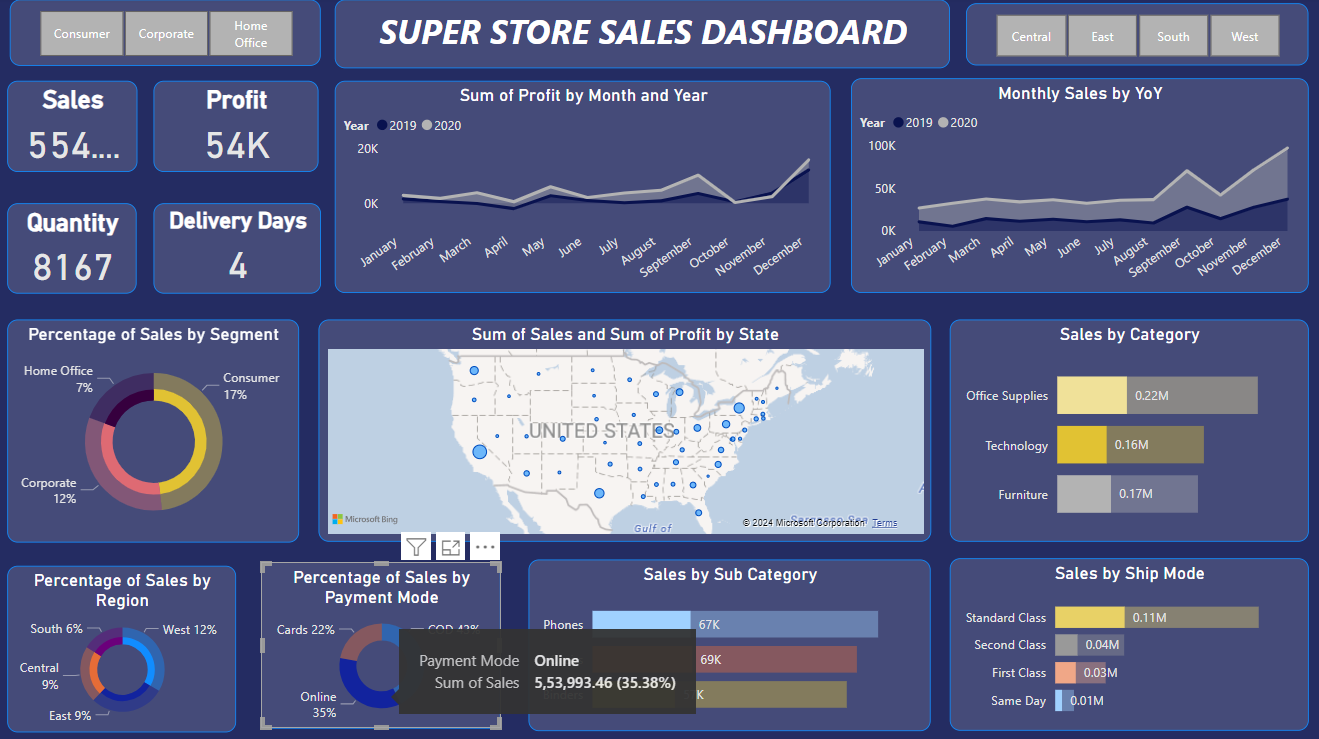

This screenshot's page, from the dashboard's own definition file:
{"tool":"powerbi","page":{"name":"Page 1","canvas":[1280,720],"ordinal":0},"visuals":[{"type":"clusteredBarChart","title":"Sales by Category","fields":{"Category":["SuperStore_Sales_Dataset.Category"],"Y":["Sum(SuperStore_Sales_Dataset.Sales)"]},"box":[920.2,311.2,346.1,214.7],"z":0},{"type":"clusteredBarChart","title":"Sales by Sub Category","fields":{"Category":["SuperStore_Sales_Dataset.Sub-Category"],"Y":["Sum(SuperStore_Sales_Dataset.Sales)"]},"box":[513.8,542.7,388.3,165.2],"z":1000},{"type":"clusteredBarChart","title":"Sales by Ship Mode","fields":{"Category":["SuperStore_Sales_Dataset.Ship Mode"],"Y":["Sum(SuperStore_Sales_Dataset.Sales)"]},"box":[920,541.2,346.2,166.2],"z":2000},{"type":"stackedAreaChart","title":"Monthly Sales by YoY","fields":{"Y":["Sum(SuperStore_Sales_Dataset.Sales)"],"Category":["SuperStore_Sales_Dataset.Order Date.Variation.Date Hierarchy.Month","SuperStore_Sales_Dataset.Order Date.Variation.Date Hierarchy.Day"],"Series":["SuperStore_Sales_Dataset.Order Date.Variation.Date Hierarchy.Year"]},"box":[825,78.8,441.2,207.5],"z":3000},{"type":"stackedAreaChart","fields":{"Category":["SuperStore_Sales_Dataset.Order Date.Variation.Date Hierarchy.Month","SuperStore_Sales_Dataset.Order Date.Variation.Date Hierarchy.Day"],"Series":["SuperStore_Sales_Dataset.Order Date.Variation.Date Hierarchy.Year"],"Y":["Sum(SuperStore_Sales_Dataset.Profit)"]},"box":[326.2,81.2,478.8,205],"z":4000},{"type":"map","fields":{"Category":["SuperStore_Sales_Dataset.State"],"Size":["Sum(SuperStore_Sales_Dataset.Sales)"]},"box":[311.2,311.2,591,214.7],"z":5000},{"type":"donutChart","title":"Percentage of Sales by Segment","fields":{"Category":["SuperStore_Sales_Dataset.Segment"],"Y":["Sum(SuperStore_Sales_Dataset.Sales)"]},"box":[11.2,311.2,281.2,215],"z":6000},{"type":"donutChart","title":"Percentage of Sales by Payment Mode","fields":{"Category":["SuperStore_Sales_Dataset.Payment Mode"],"Y":["Sum(SuperStore_Sales_Dataset.Sales)"]},"box":[255.7,545.1,231.6,160.4],"z":7000},{"type":"slicer","fields":{"Values":["SuperStore_Sales_Dataset.Region"]},"box":[936.2,6.2,330,60],"z":8000},{"type":"textbox","box":[326.2,2.5,593.8,66.2],"z":9000},{"type":"card","title":"Sales","fields":{"Values":["Sum(SuperStore_Sales_Dataset.Sales)"]},"box":[11.2,81.2,125,87.5],"z":10000},{"type":"card","title":"Quantity","fields":{"Values":["Sum(SuperStore_Sales_Dataset.Quantity)"]},"box":[11.2,198.8,125,87.5],"z":11000},{"type":"card","title":"Profit","fields":{"Values":["Sum(SuperStore_Sales_Dataset.Profit)"]},"box":[161.2,81.2,152.5,87.5],"z":12000},{"type":"card","title":"Delivery Days","fields":{"Values":["Avg(SuperStore_Sales_Dataset.AvgDelievery)"]},"box":[162.5,198.8,151.2,87.5],"z":13000},{"type":"donutChart","title":"Percentage of Sales by Region","fields":{"Category":["SuperStore_Sales_Dataset.Region"],"Y":["Sum(SuperStore_Sales_Dataset.Sales)"]},"box":[10.9,548.7,220.7,160.4],"z":14000},{"type":"slicer","fields":{"Values":["SuperStore_Sales_Dataset.Segment"]},"box":[11.2,2.5,300,63.8],"z":15000}]}

Visuals, with their boxes in screenshot pixels (x1, y1, x2, y2), scaled from the page's 1280x720 canvas onto the 1319x739 screenshot:
"Sales by Category" clusteredBarChart: 948:319:1305:540
"Sales by Sub Category" clusteredBarChart: 529:557:930:727
"Sales by Ship Mode" clusteredBarChart: 948:555:1305:726
"Monthly Sales by YoY" stackedAreaChart: 850:81:1305:294
stackedAreaChart - SuperStore_Sales_Dataset.Order Date.Variation.Date Hierarchy.Month x SuperStore_Sales_Dataset.Order Date.Variation.Date Hierarchy.Day: 336:83:830:294
map - SuperStore_Sales_Dataset.State x Sum(SuperStore_Sales_Dataset.Sales): 321:319:930:540
"Percentage of Sales by Segment" donutChart: 12:319:301:540
"Percentage of Sales by Payment Mode" donutChart: 263:559:502:724
slicer - SuperStore_Sales_Dataset.Region: 965:6:1305:68
textbox: 336:3:948:71
"Sales" card: 12:83:140:173
"Quantity" card: 12:204:140:294
"Profit" card: 166:83:323:173
"Delivery Days" card: 167:204:323:294
"Percentage of Sales by Region" donutChart: 11:563:239:728
slicer - SuperStore_Sales_Dataset.Segment: 12:3:321:68
